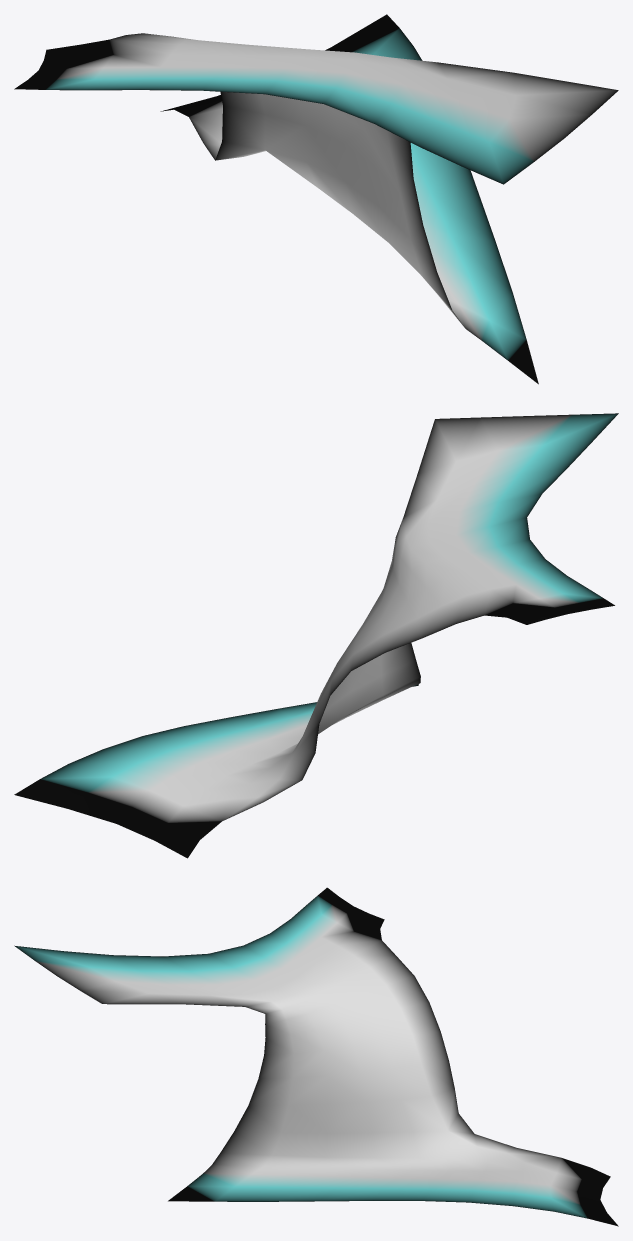
File: cascadeSVertex.fbx
3 renders of one model, top to bottom at view 1: azimuth 30°, elevation 25°; view 2: azimuth 150°, elevation 25°; view 3: azimuth 270°, elevation 25°, orthographic. The views are drawn at different scales.
Visible parts, largest first — view 1: Cascade2; view 2: Cascade2; view 3: Cascade2.
Boxes of the visible parts, x1=… form: Cascade2: x1=14, y1=14, x2=618, y2=384; Cascade2: x1=14, y1=413, x2=618, y2=858; Cascade2: x1=14, y1=887, x2=618, y2=1226.
Bounding box in the file's own units: 123 × 63.74 × 169.
